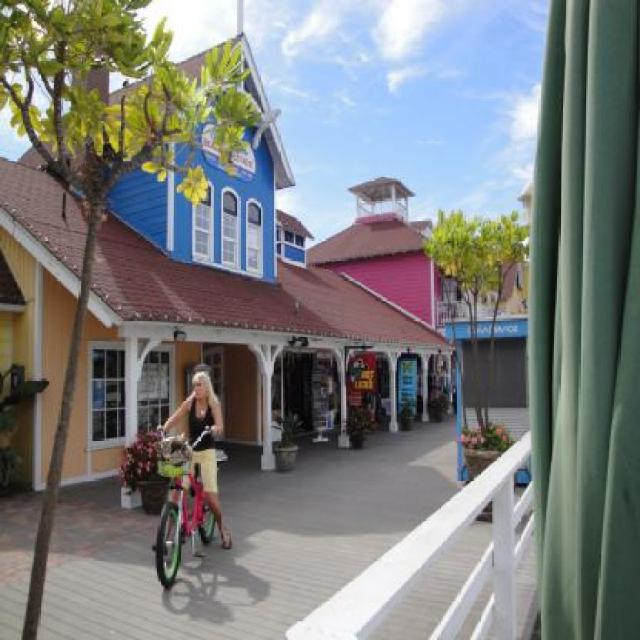Person: (151, 374, 234, 552)
